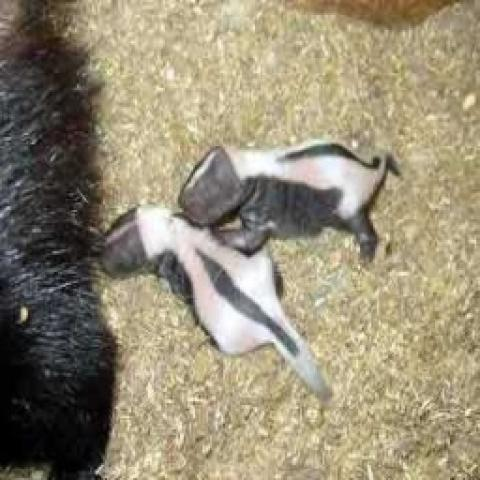small_animal: (95, 196, 334, 399), (174, 130, 406, 263)
